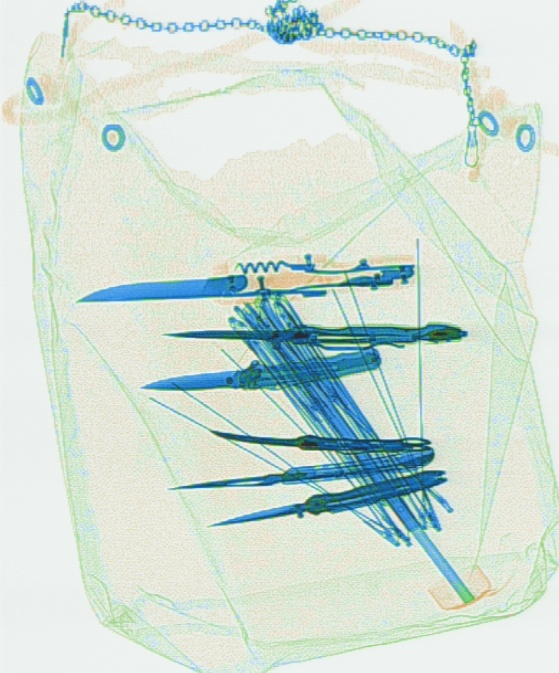knife: (72, 253, 421, 302), (209, 470, 446, 529), (165, 444, 434, 491), (138, 346, 382, 392), (163, 320, 468, 348), (210, 427, 432, 452)
